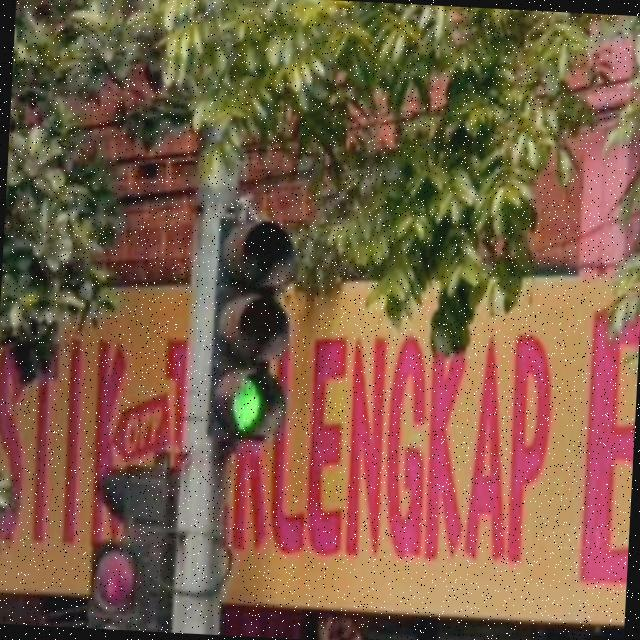Zielone swiatlo: (210, 224, 290, 444)
